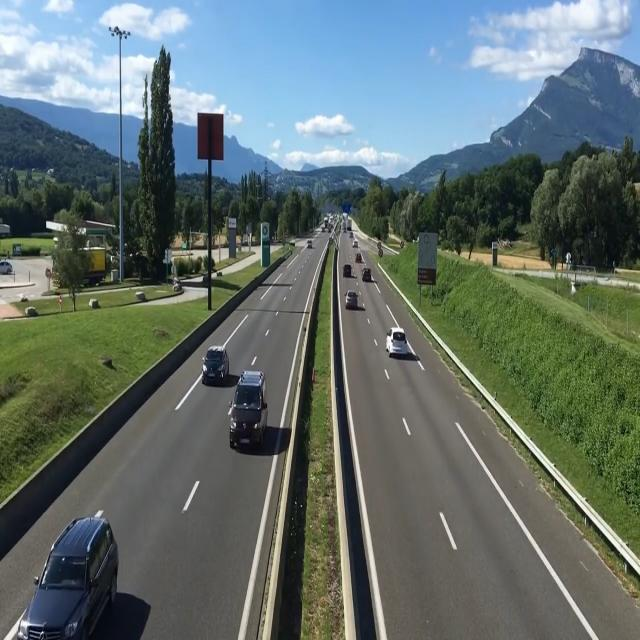car: (15, 514, 119, 638), (227, 366, 267, 451), (202, 346, 232, 388), (386, 326, 412, 364), (345, 282, 363, 314)
